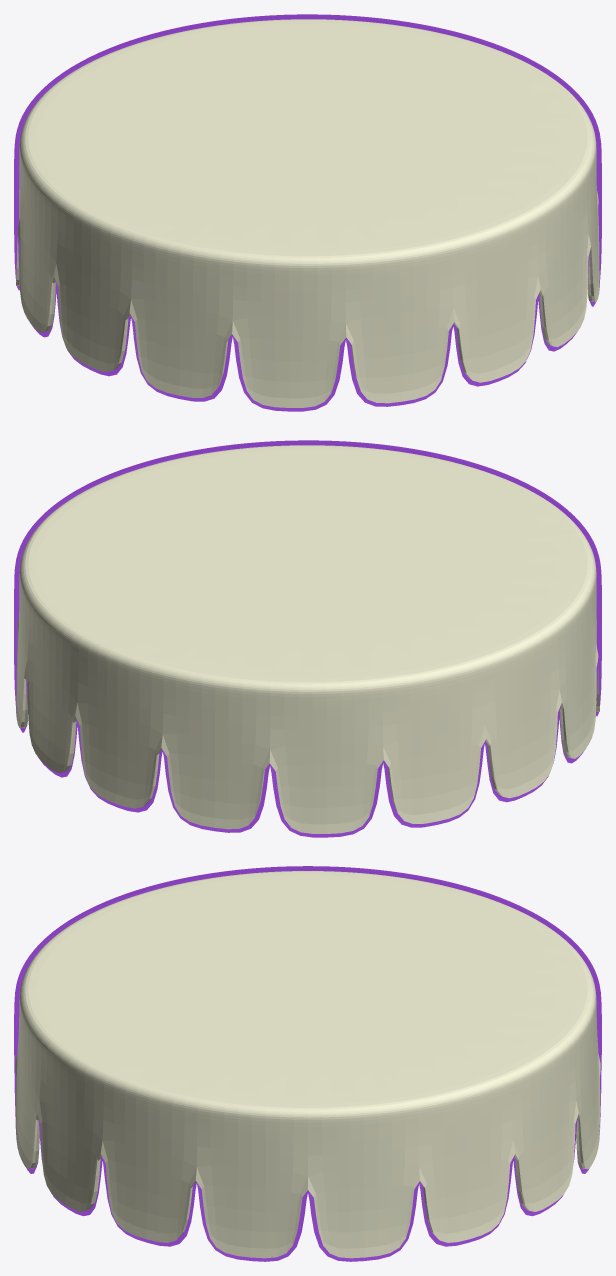
File: circulo branco.glb
The picture shows the model from 3 angles, top to bottom: view 1: azimuth 30°, elevation 25°; view 2: azimuth 150°, elevation 25°; view 3: azimuth 270°, elevation 25°; orthographic projection.
Visible parts, largest first — view 1: Cylinder.016; view 2: Cylinder.016; view 3: Cylinder.016.
Boxes of the visible parts, left/top/right/bottom form: Cylinder.016: left=14, top=14, right=601, bottom=411; Cylinder.016: left=14, top=440, right=601, bottom=837; Cylinder.016: left=14, top=866, right=601, bottom=1261.
Bounding box in the file's own units: 22.21 × 6.54 × 22.21.
